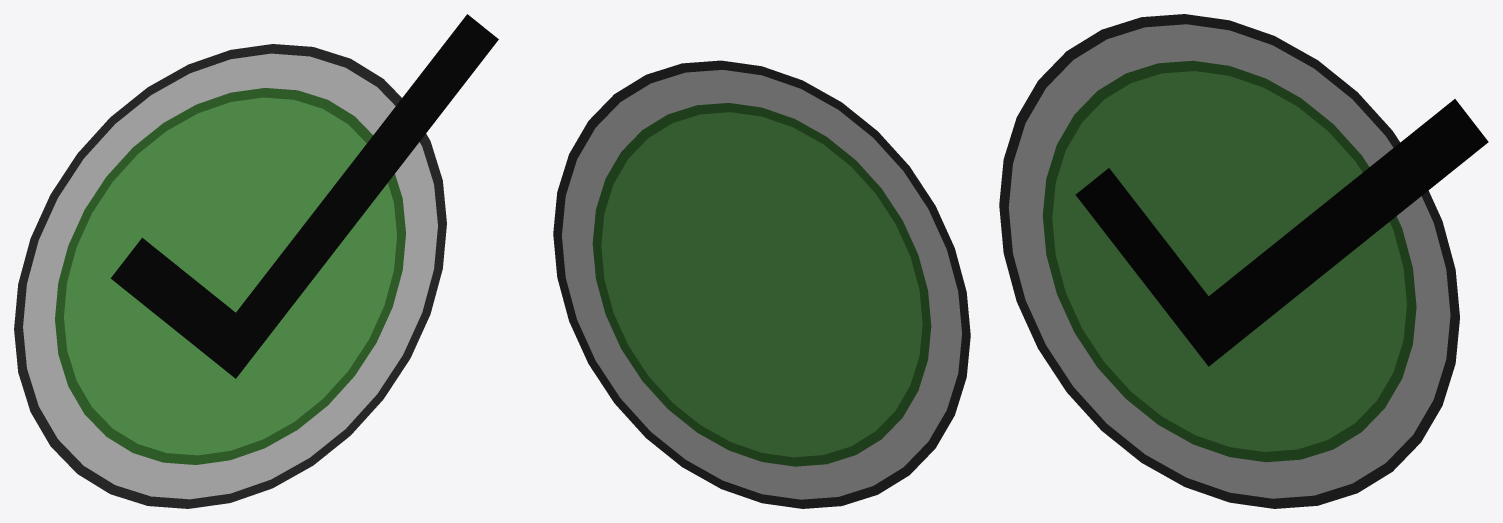
Rendered from CirclePositive.fbx.
The picture shows the model from 3 angles, left to right: view 1: azimuth 30°, elevation 25°; view 2: azimuth 150°, elevation 25°; view 3: azimuth 330°, elevation 25°; orthographic projection. The views are drawn at different scales.
Parts seen in each view (by area): view 1: CirclePositive; view 2: CirclePositive; view 3: CirclePositive.
Boxes of the visible parts, <box> form: CirclePositive: <box>14,14,498,508</box>; CirclePositive: <box>553,60,970,508</box>; CirclePositive: <box>999,14,1488,508</box>.
Size of the model in its own units: 218 by 200 by 10.
